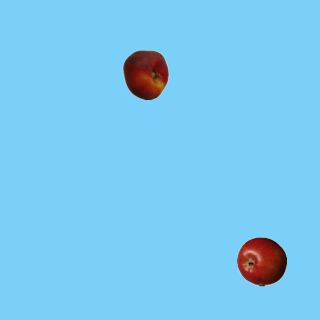Apple Braeburn: (236, 236, 286, 286)
Nectarine Flat: (120, 49, 170, 99)
